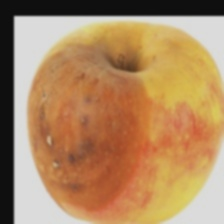apple: (32, 30, 209, 179)
